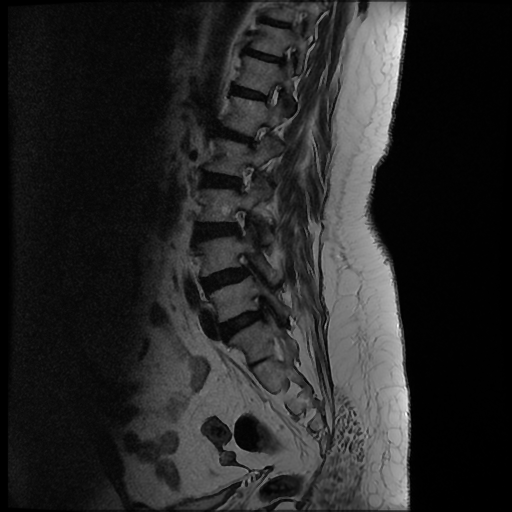LFS0: (222, 202, 260, 246)
